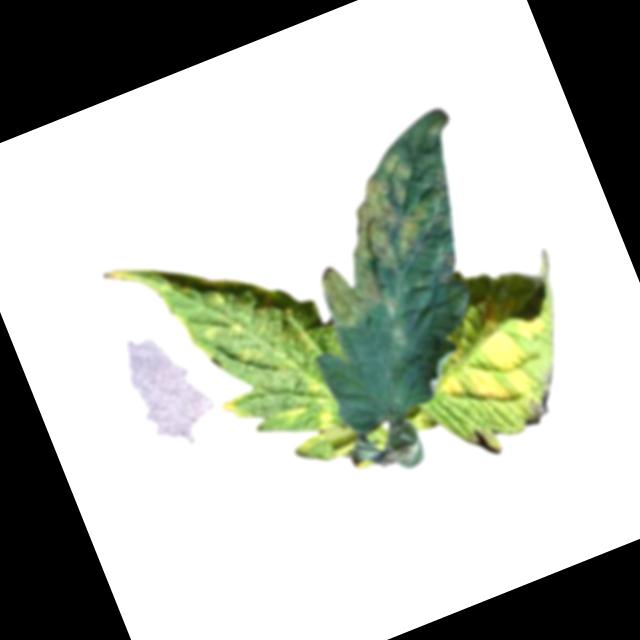Leaf_Mold: (102, 207, 370, 532), (275, 106, 509, 336), (412, 273, 579, 422)
